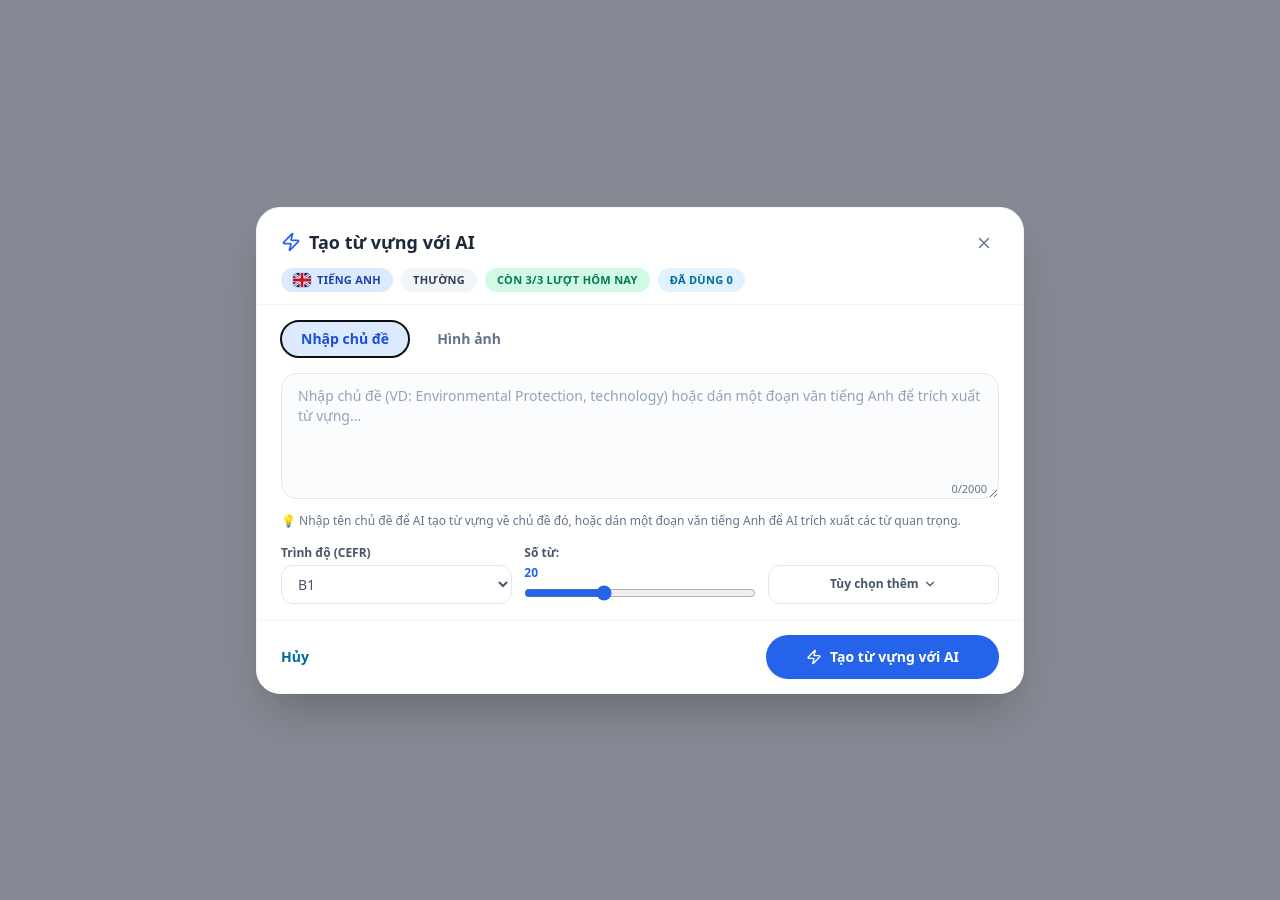
Scenario: GenerateVocabModal › shows the backend error and returns to the form without losing the input
The image size is (1280, 900).
Expected: the text "Còn 3/3 lượt hôm nay" is shown, [485,268,650,292]
Replace the text in the text box with placeholder "Nhập chủ đề" with "Environment" at coordinates (640, 436), box [281,372,999,498]
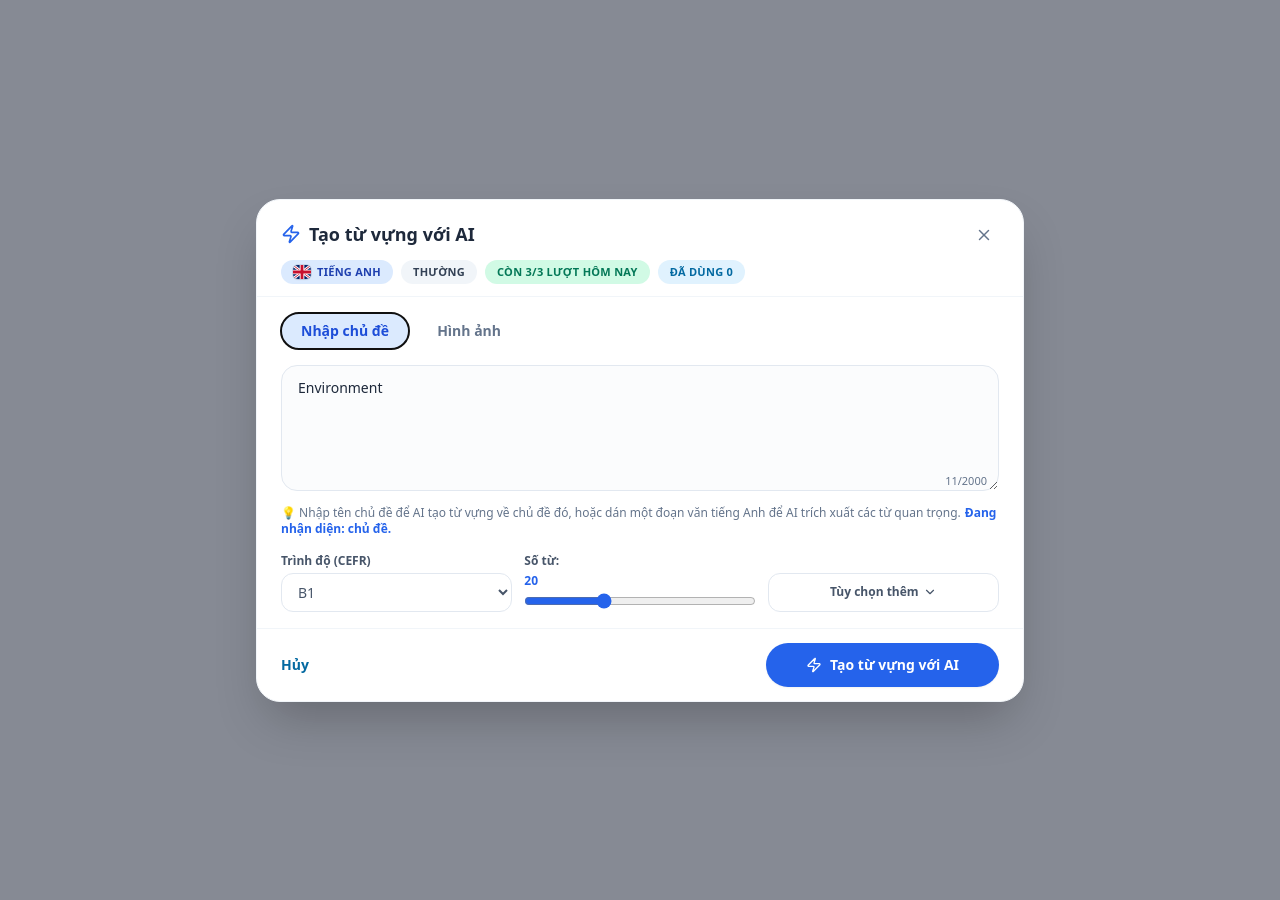
Click the button "Tạo từ vựng với AI" at coordinates (883, 664), box [766,642,999,686]
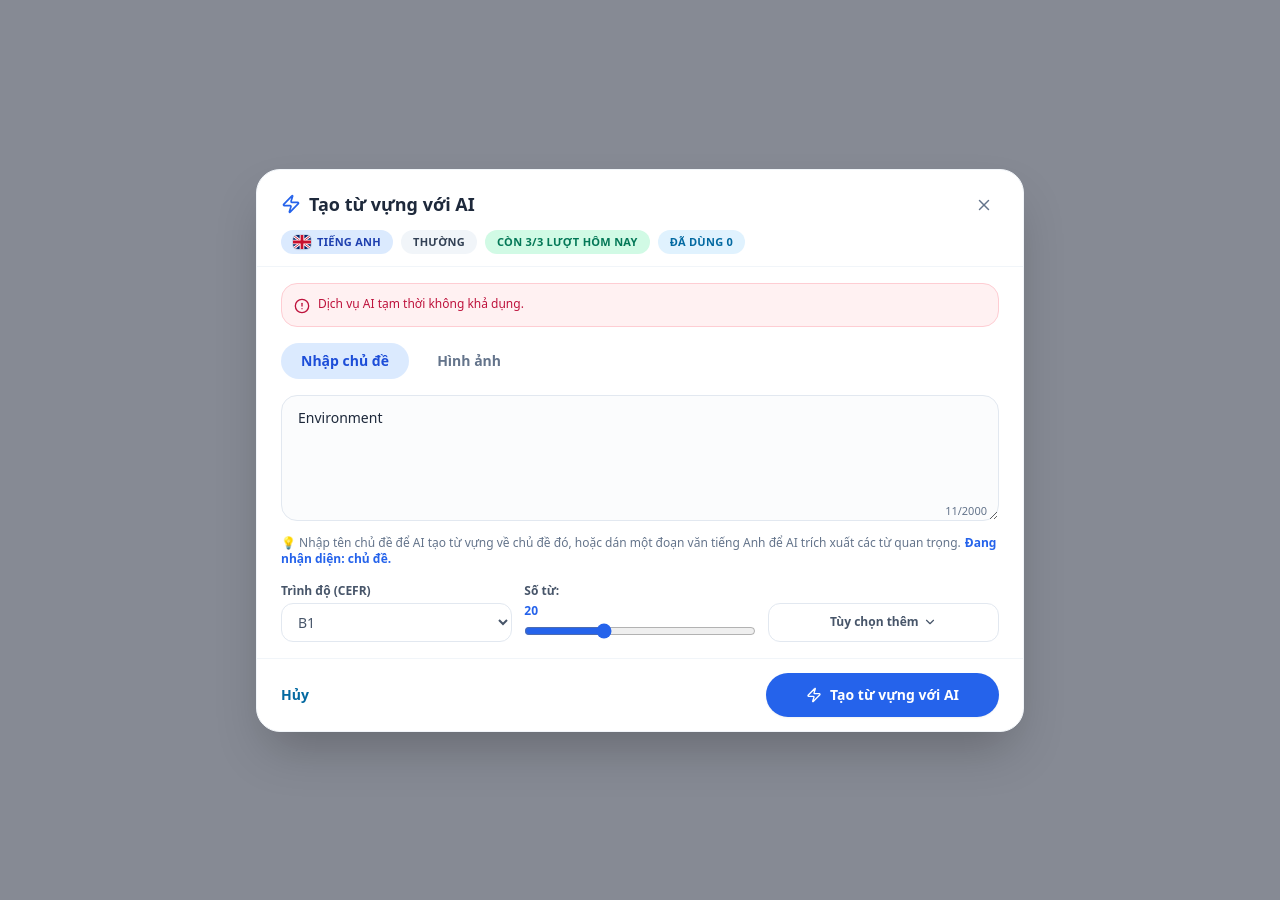
Expected: the text box with placeholder "Nhập chủ đề" holds "Environment", [281,394,999,520]
Expected: the message shows "tạm thời không khả dụng", [318,294,524,312]
